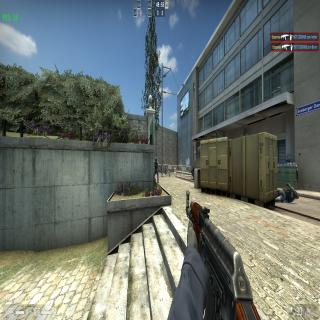CT-Body: (154, 157, 159, 184)
CT-Head: (155, 157, 157, 162)
